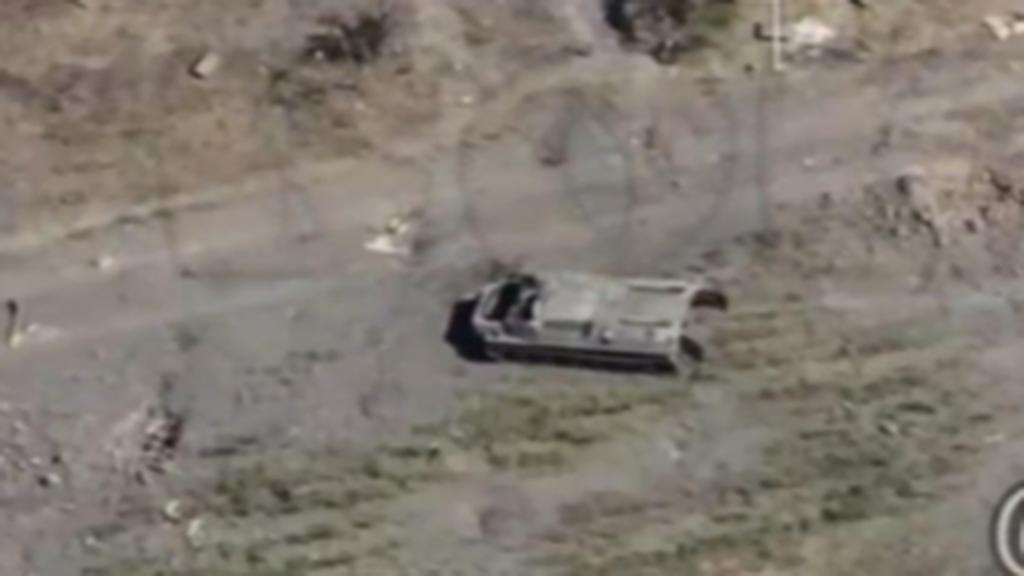APC-IFV: (450, 252, 716, 380)
